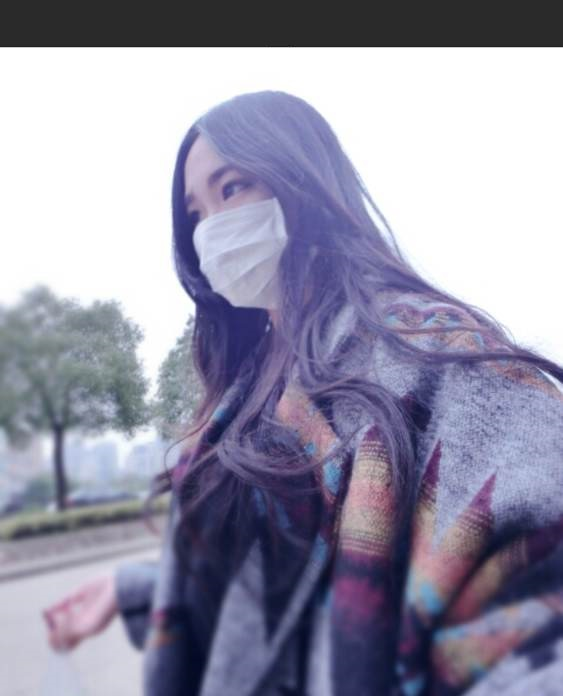face_mask: (189, 131, 287, 310)
